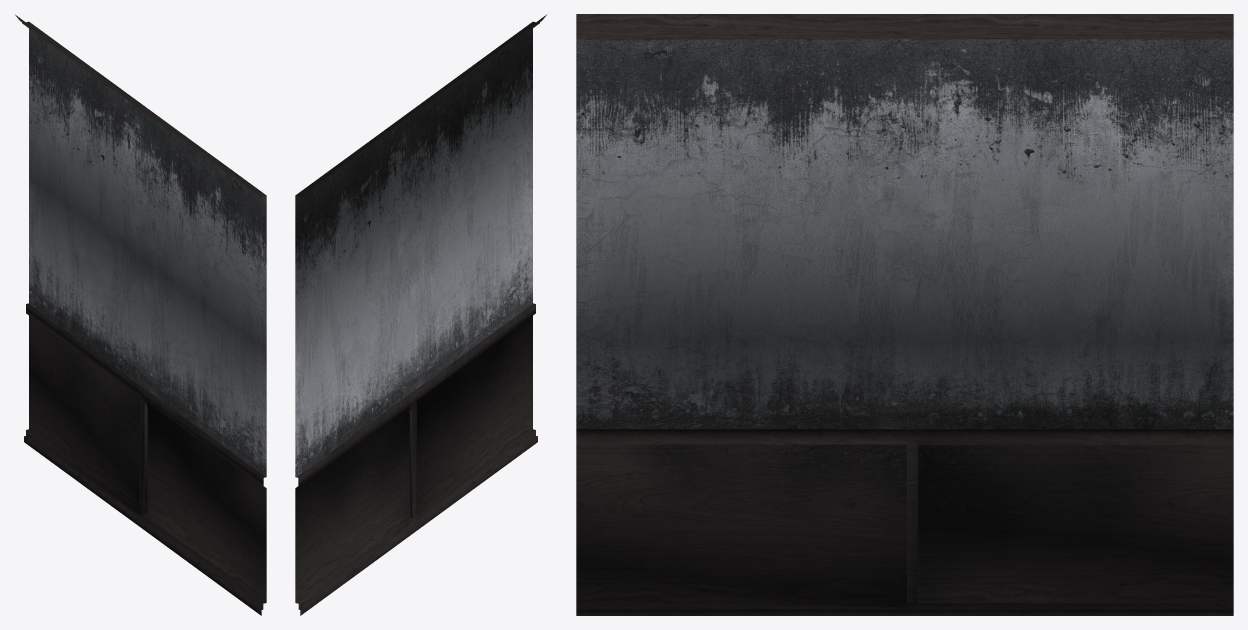
File: FPH_Wall.fbx
3 renders of one model, left to right at view 1: azimuth 30°, elevation 25°; view 2: azimuth 150°, elevation 25°; view 3: azimuth 270°, elevation 25°, orthographic. The views are drawn at different scales.
Parts seen in each view (by area): view 1: FPH_Wall_Diffuse; view 2: FPH_Wall_Diffuse; view 3: FPH_Wall_Diffuse.
Boxes of the visible parts, x1,y1,x2,y2 form: FPH_Wall_Diffuse: (15, 14, 266, 615); FPH_Wall_Diffuse: (295, 14, 546, 615); FPH_Wall_Diffuse: (576, 14, 1233, 615).
Bounding box in the file's own units: 0.4733 × 13.3 × 13.3.
